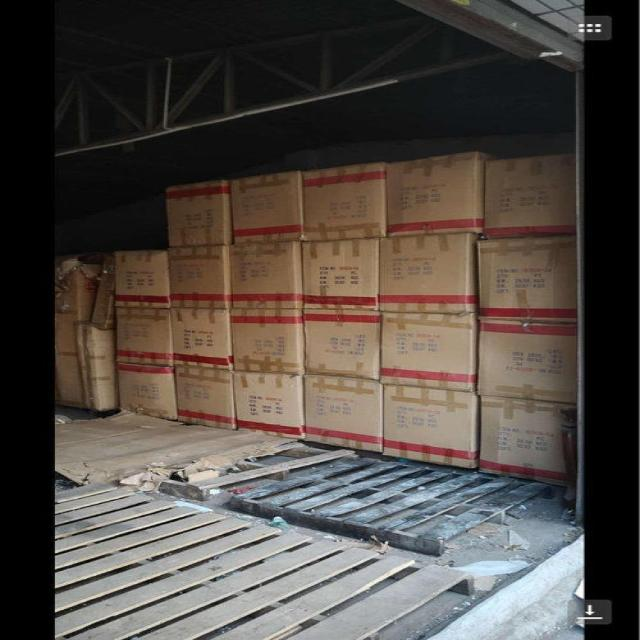box: (388, 151, 500, 237), (479, 396, 577, 486), (479, 234, 577, 323), (475, 319, 577, 404), (480, 151, 576, 239), (381, 385, 481, 468), (380, 233, 479, 314), (383, 311, 479, 391), (302, 161, 387, 242), (305, 376, 383, 452), (55, 320, 119, 411), (230, 169, 305, 244), (302, 309, 381, 380), (302, 239, 379, 311), (230, 241, 305, 309), (230, 309, 306, 375), (233, 372, 306, 438), (166, 179, 233, 246), (169, 245, 233, 308), (174, 365, 237, 429), (169, 308, 232, 370), (54, 252, 109, 321), (120, 363, 178, 420), (116, 308, 173, 365), (118, 251, 170, 308), (91, 254, 115, 329)
